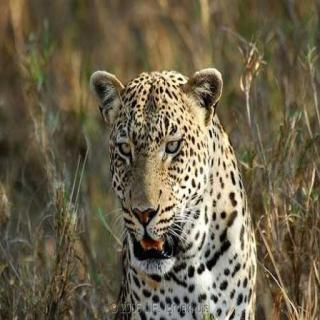Leopard: (85, 28, 311, 320)
